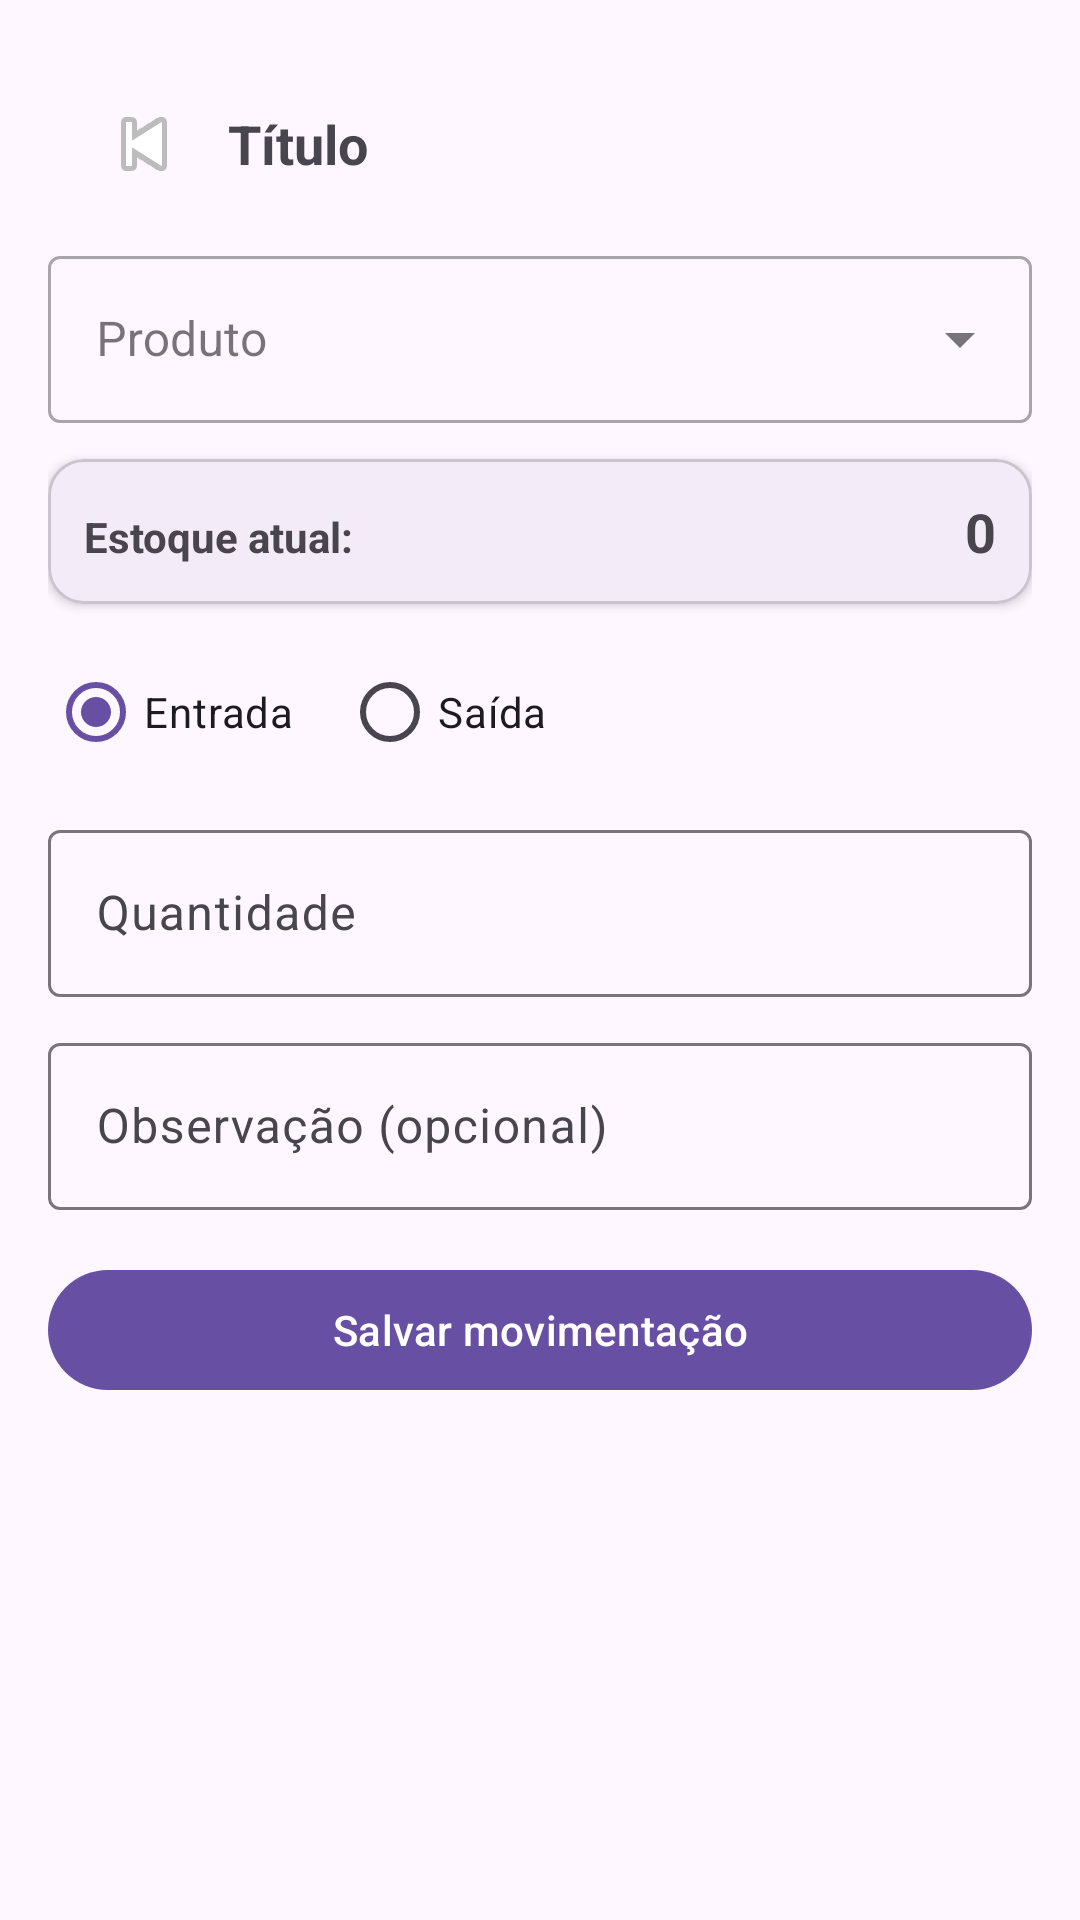

Where icons sit on this 1080w x 1920h app screen, as (x1, y1, x2, y2):
Voltar: (121, 117, 167, 171)
